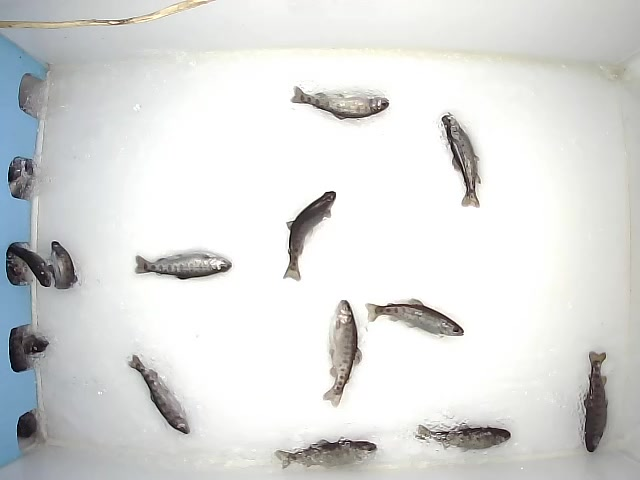fish: (125, 352, 191, 436), (280, 189, 336, 281), (321, 298, 365, 408), (438, 111, 484, 209), (364, 296, 464, 339), (272, 435, 378, 470), (288, 84, 390, 120), (134, 248, 232, 280), (581, 350, 610, 452), (412, 422, 511, 451), (5, 237, 52, 289), (46, 240, 79, 291)
